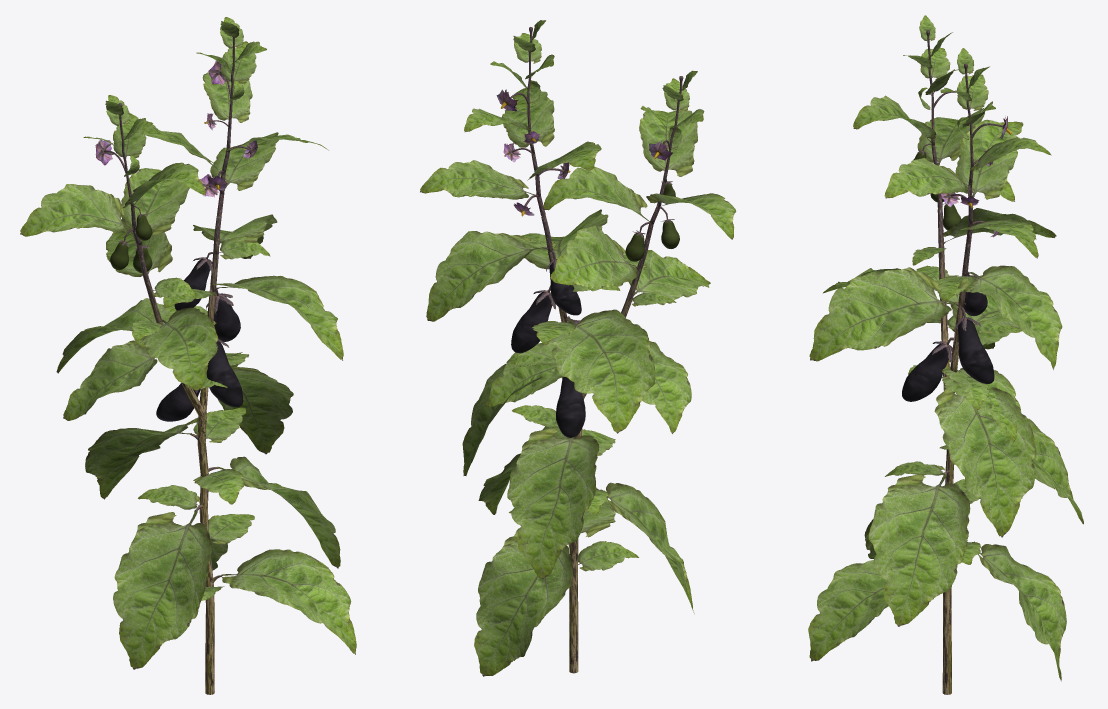
3 renders of one model, left to right at view 1: azimuth 30°, elevation 25°; view 2: azimuth 150°, elevation 25°; view 3: azimuth 270°, elevation 25°, orthographic.
Visible parts, largest first — view 1: VG19_6; view 2: VG19_6; view 3: VG19_6.
Boxes of the visible parts, left/top/right/bottom form: VG19_6: left=20, top=17, right=356, bottom=694; VG19_6: left=420, top=20, right=736, bottom=676; VG19_6: left=808, top=15, right=1083, bottom=694.
Size of the model in its own units: 0.3422 by 0.7119 by 0.3014.
Materials: 9 (9 with a texture image).
